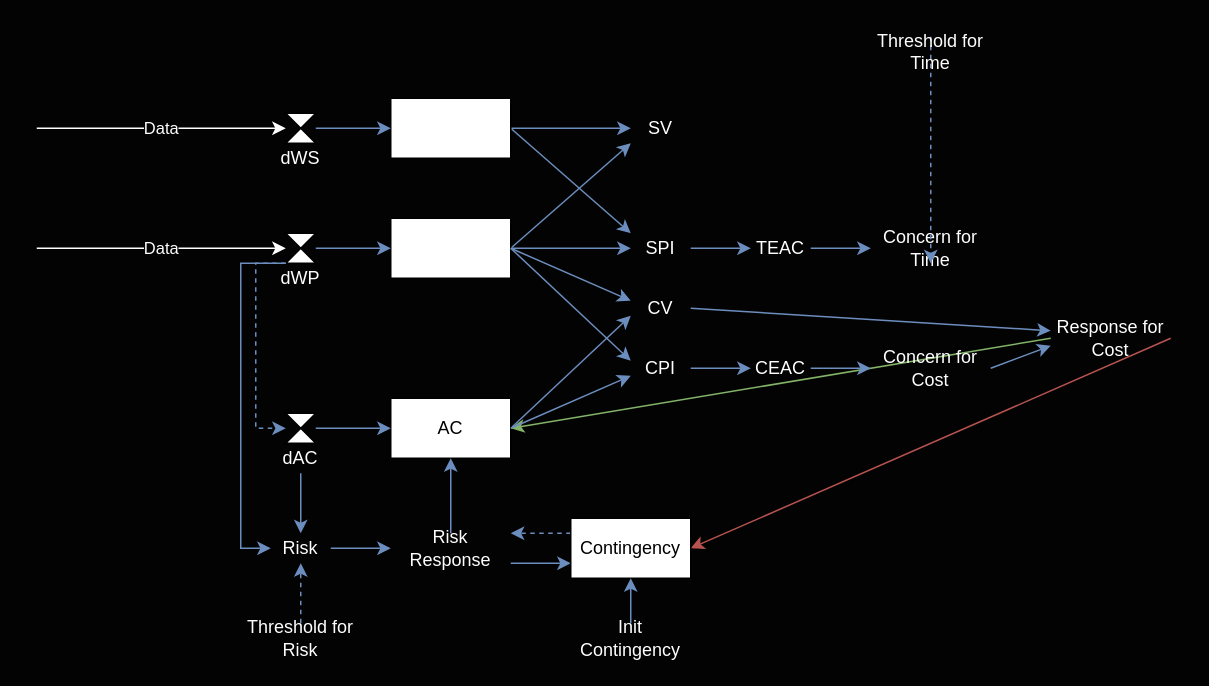
Some shapes in this 1209 by 686 pixel diagram are drawn without their labels. The centre of each missing label's shape, as x and y in pixels:
"WP" belongs at (450,247).
"WS" belongs at (450,127).
